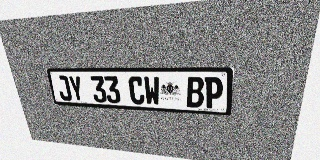3: (90, 76, 107, 103), (104, 76, 121, 103)
B: (186, 77, 204, 108)
C: (128, 76, 145, 105)
J: (55, 76, 73, 101)
P: (204, 77, 223, 109)
W: (143, 76, 160, 106)
Y: (68, 76, 85, 102)
